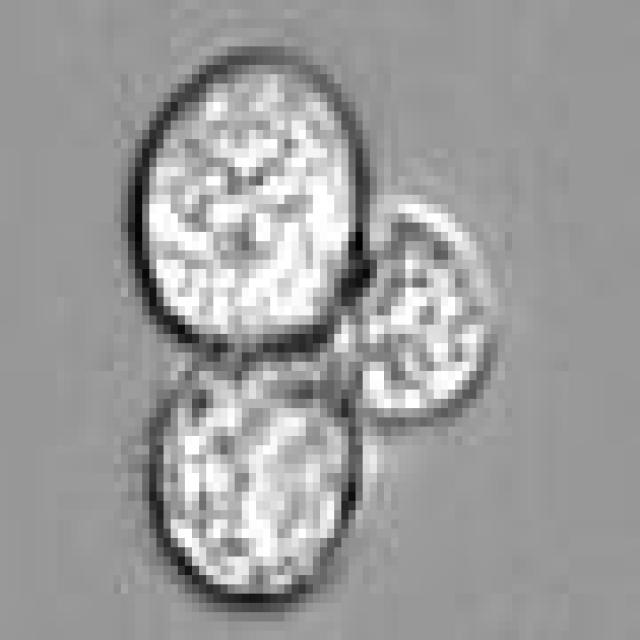Cancer Cell: (142, 55, 356, 352), (150, 343, 356, 584)
WBC: (320, 204, 498, 427)
